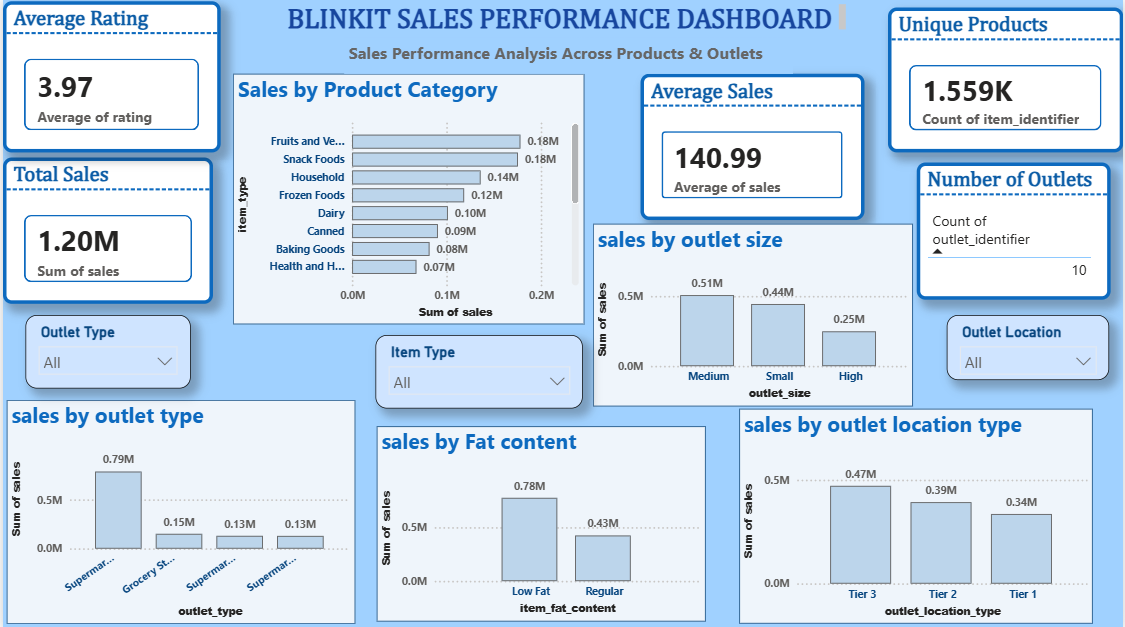

The page's visual inventory and layout, read from the dashboard file:
{"tool":"powerbi","page":{"name":"Page 1","canvas":[1280,720],"ordinal":0},"visuals":[{"type":"cardVisual","title":"Total Sales","fields":{"Data":["Sum(blinkit_sales.sales)"]},"box":[0,180,240,167.1],"z":0},{"type":"cardVisual","title":"Average Sales","fields":{"Data":["Avg(blinkit_sales.sales)"]},"box":[728.6,84.3,255.7,167.1],"z":1000},{"type":"cardVisual","title":"Unique Products","fields":{"Data":["Count(blinkit_sales.item_identifier)"]},"box":[1011.4,8.6,268.6,165.7],"z":2000},{"type":"tableEx","title":"Number of Outlets","fields":{"Values":["blinkit_sales.outlet_identifier"]},"box":[1044.3,185.7,221.4,157.1],"z":3000},{"type":"cardVisual","title":"Average Rating","fields":{"Data":["Avg(blinkit_sales.rating)"]},"box":[0,1.4,248.6,172.9],"z":4000},{"type":"clusteredBarChart","title":"Sales by Product Category","fields":{"Category":["blinkit_sales.item_type"],"Y":["Sum(blinkit_sales.sales)"]},"box":[262.9,84.3,401.7,286.7],"z":5000},{"type":"clusteredColumnChart","title":"sales by outlet type","fields":{"Category":["blinkit_sales.outlet_type"],"Y":["Sum(blinkit_sales.sales)"]},"box":[4.3,457.1,398.6,255.7],"z":6000},{"type":"clusteredColumnChart","title":"sales by outlet location type","fields":{"Category":["blinkit_sales.outlet_location_type"],"Y":["Sum(blinkit_sales.sales)"]},"box":[841.4,467.1,404.3,245.7],"z":7000},{"type":"clusteredColumnChart","title":"sales by outlet size","fields":{"Category":["blinkit_sales.outlet_size"],"Y":["Sum(blinkit_sales.sales)"]},"box":[674.3,255.7,365.7,208.6],"z":8000},{"type":"clusteredColumnChart","title":"sales by Fat content","fields":{"Category":["blinkit_sales.item_fat_content"],"Y":["Sum(blinkit_sales.sales)"]},"box":[427.1,487.1,375.7,222.9],"z":9000},{"type":"slicer","fields":{"Values":["blinkit_sales.item_type"]},"box":[425.7,382.9,237.1,84.3],"z":10000},{"type":"slicer","fields":{"Values":["blinkit_sales.outlet_type"]},"box":[25.7,360,188.6,84.3],"z":11000},{"type":"slicer","fields":{"Values":["blinkit_sales.outlet_location_type"]},"box":[1078.6,360,185.7,74.3],"z":12000},{"type":"textbox","box":[320,0,648.6,42.9],"z":13000},{"type":"textbox","box":[390,42.9,512.9,41.4],"z":14000}]}

Visuals, with their boxes in screenshot pixels (x1, y1, x2, y2), scaled from the page's 1280x720 canvas onto the 1125x627 screenshot:
"Total Sales" cardVisual: 0/157/211/302
"Average Sales" cardVisual: 640/73/865/219
"Unique Products" cardVisual: 889/7/1124/152
"Number of Outlets" tableEx: 918/162/1112/299
"Average Rating" cardVisual: 0/1/218/152
"Sales by Product Category" clusteredBarChart: 231/73/584/323
"sales by outlet type" clusteredColumnChart: 4/398/354/621
"sales by outlet location type" clusteredColumnChart: 740/407/1095/621
"sales by outlet size" clusteredColumnChart: 593/223/914/404
"sales by Fat content" clusteredColumnChart: 375/424/706/618
slicer - blinkit_sales.item_type: 374/333/583/407
slicer - blinkit_sales.outlet_type: 23/314/188/387
slicer - blinkit_sales.outlet_location_type: 948/314/1111/378
textbox: 281/0/851/37
textbox: 343/37/794/73
